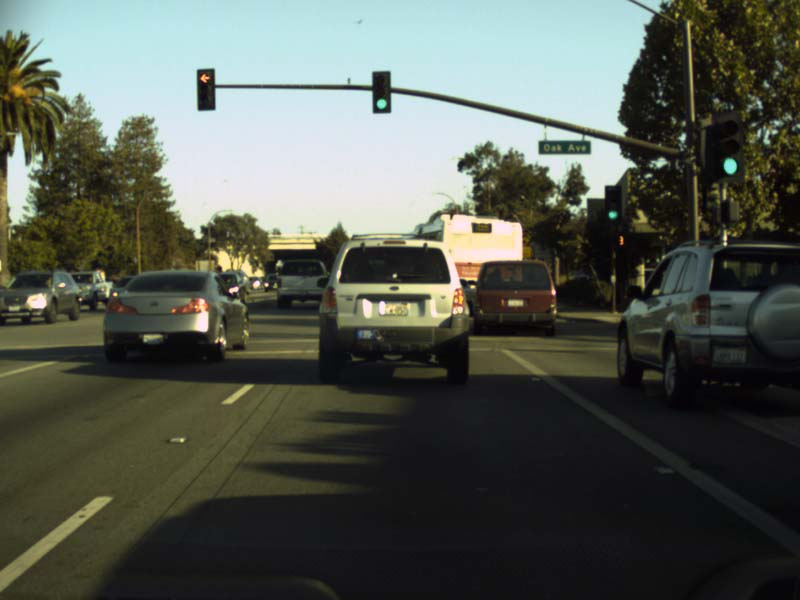Green: (714, 113, 741, 181), (370, 71, 391, 114), (604, 184, 621, 225)
Red: (196, 68, 215, 109)
